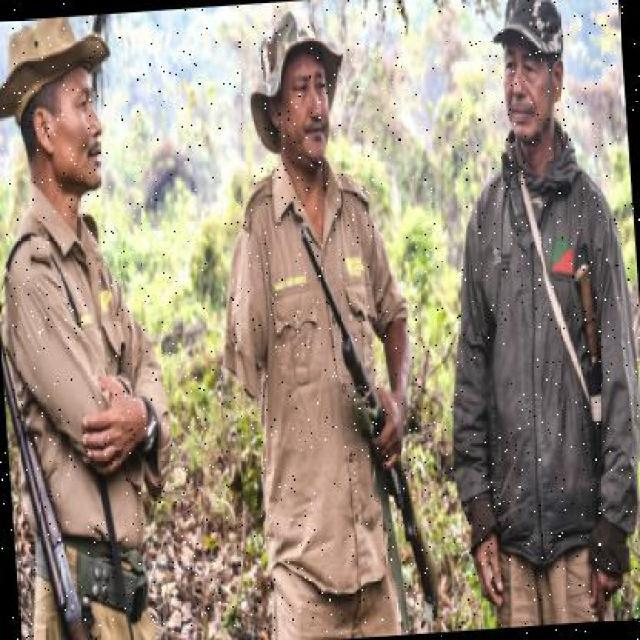poacher: (200, 15, 428, 631), (6, 19, 169, 624), (451, 2, 611, 610)
weapon: (286, 226, 456, 597)
